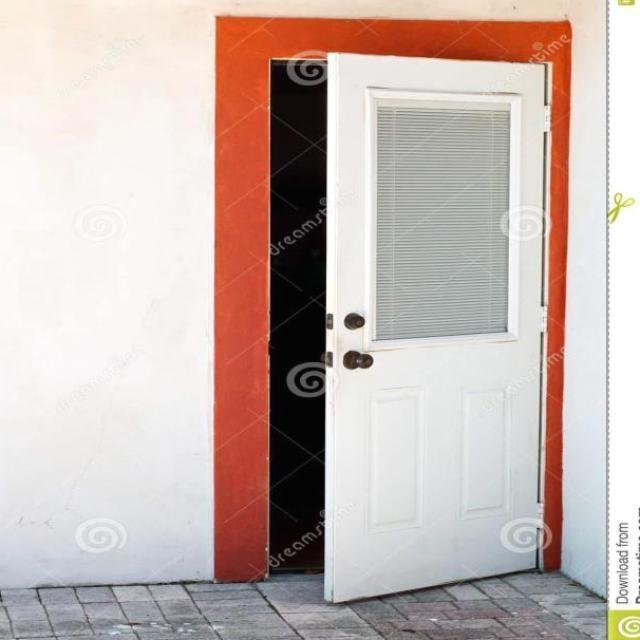door: (321, 51, 547, 604)
